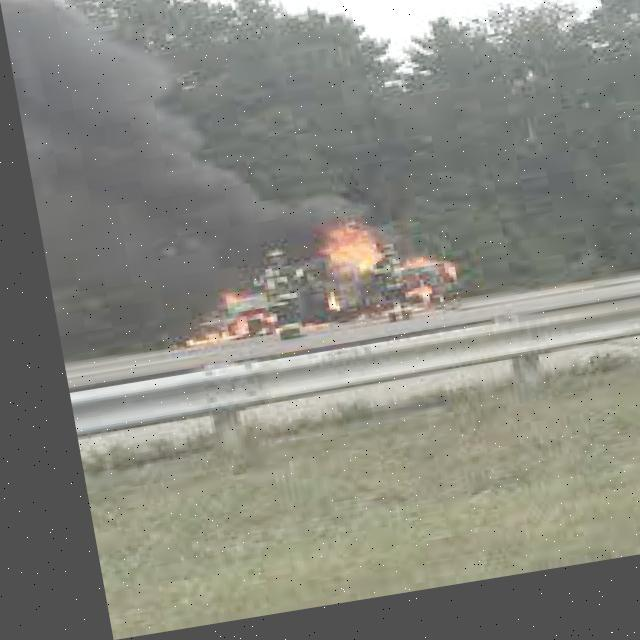Fire: (160, 215, 452, 362)
